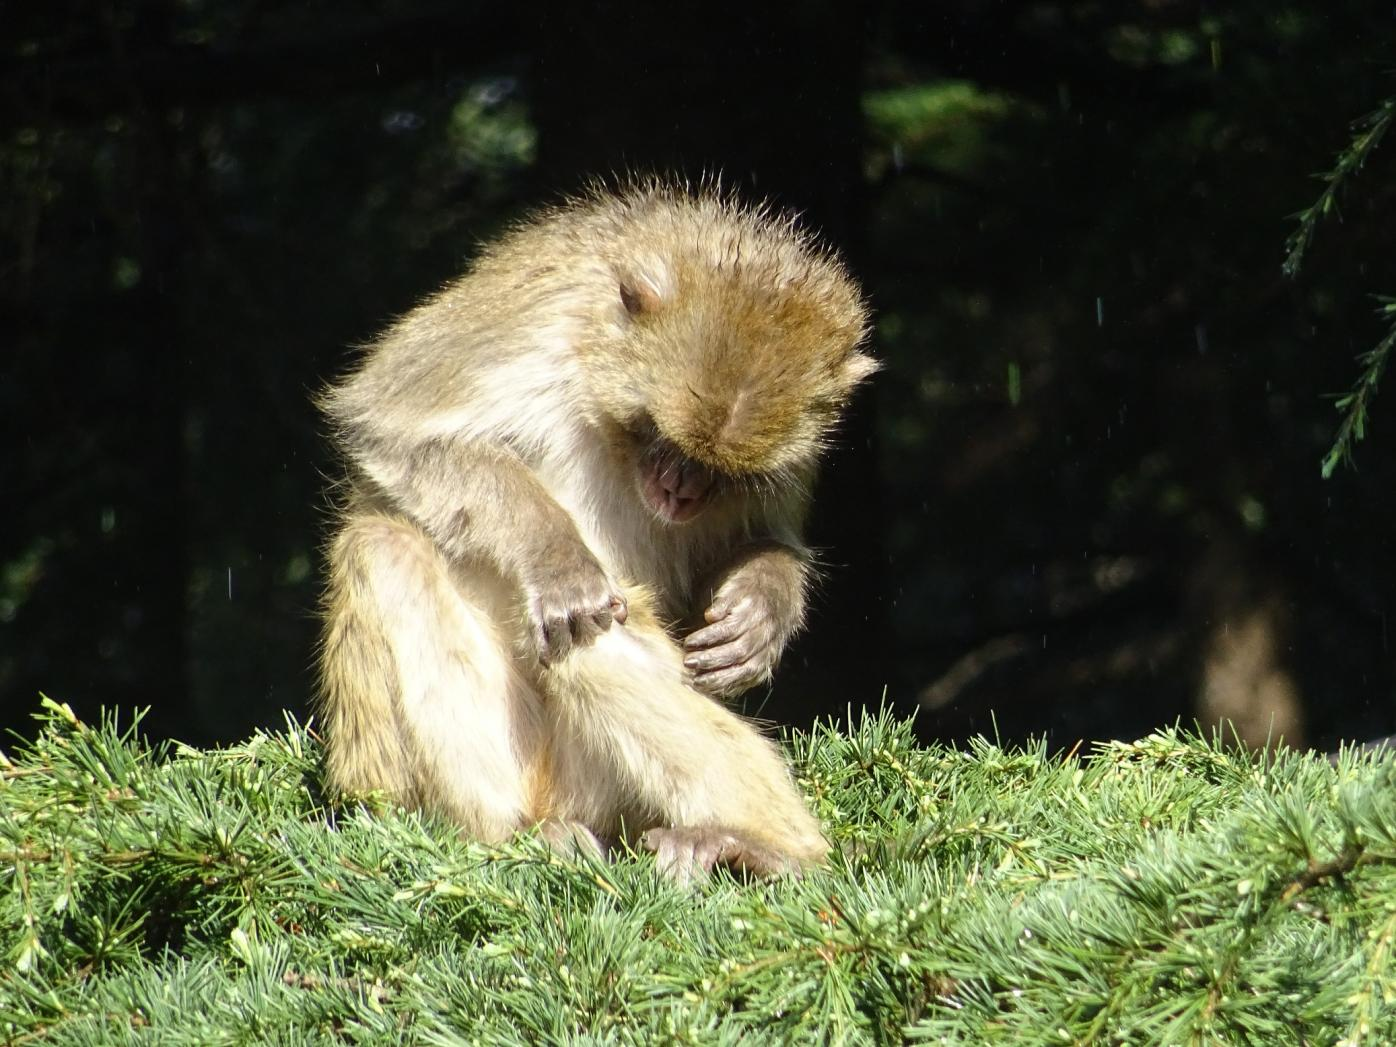monkey: (287, 165, 931, 914)
